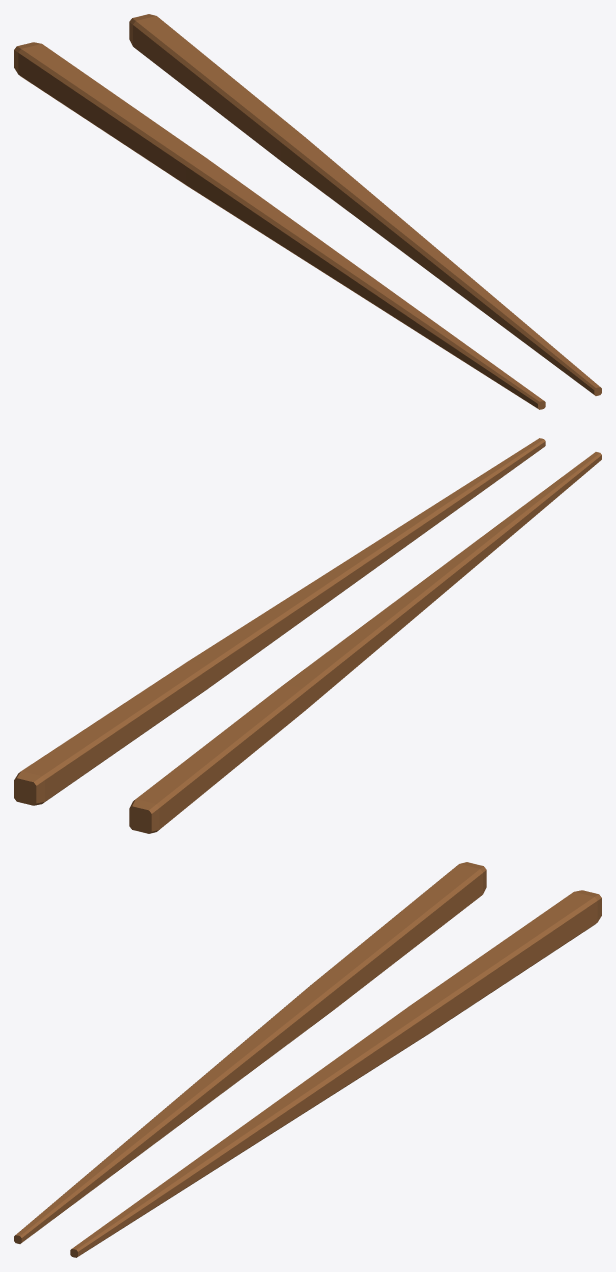
Rendered from NEW_RECOVERY_079_LOD2.glb.
3 views of the same model, one above another, from view 1: azimuth 30°, elevation 25°; view 2: azimuth 150°, elevation 25°; view 3: azimuth 330°, elevation 25° (orthographic).
Parts seen in each view (by area): view 1: Chopstick 1, Chopstick 2; view 2: Chopstick 2, Chopstick 1; view 3: Chopstick 2, Chopstick 1.
Boxes of the visible parts, x1,y1,x2,y2 form: Chopstick 1: (14,42,545,409); Chopstick 2: (129,14,601,395); Chopstick 2: (14,438,545,805); Chopstick 1: (129,452,601,833); Chopstick 2: (70,890,601,1257); Chopstick 1: (14,862,486,1243).
Size of the model in its own units: 0.0402 by 0.0076 by 0.24.
